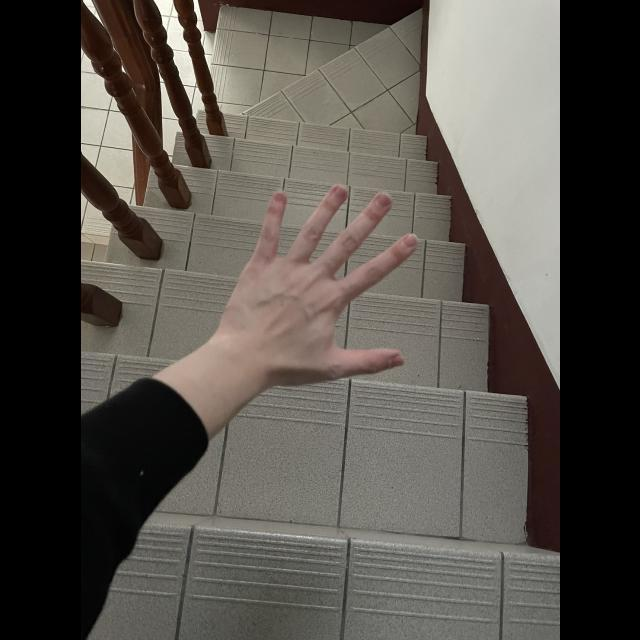bare_hand: (220, 181, 423, 390)
